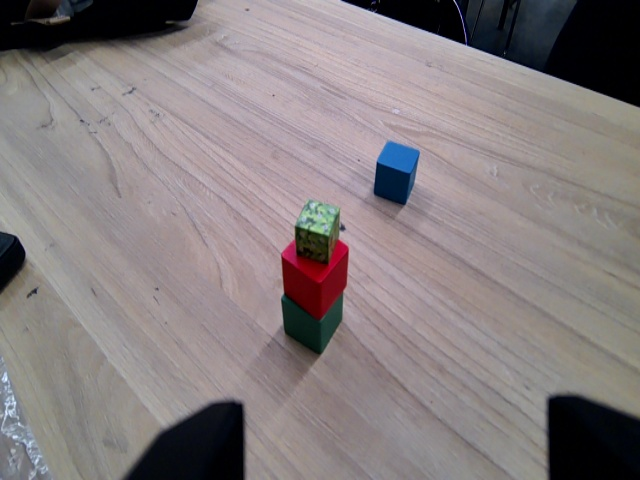grass: (293, 198, 343, 261)
